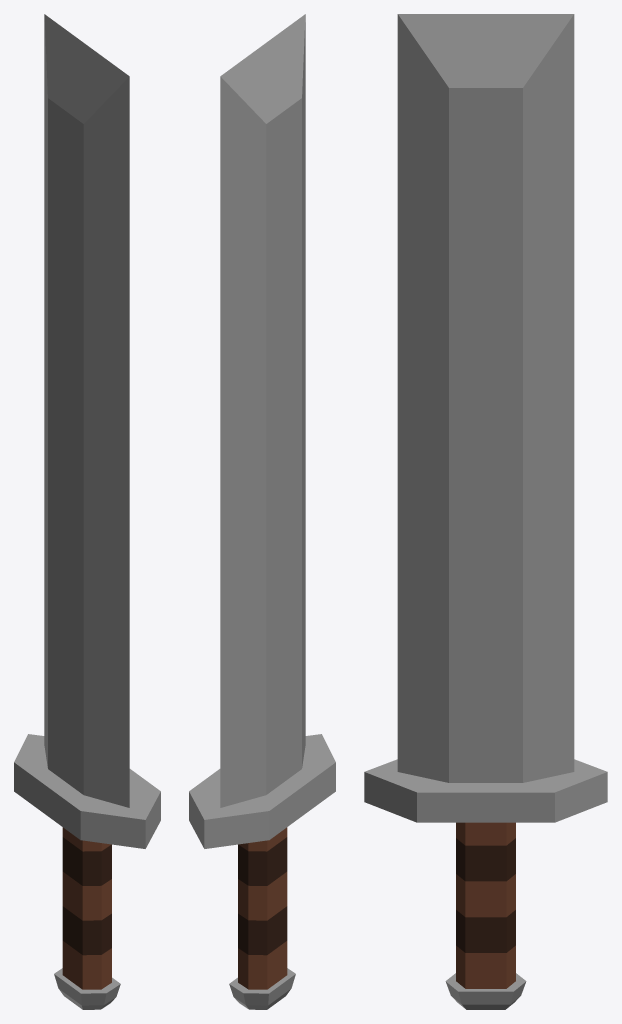
The model's file is scene_ME3F5jAcgY.glb.
3 renders of one model, left to right at view 1: azimuth 30°, elevation 25°; view 2: azimuth 150°, elevation 25°; view 3: azimuth 270°, elevation 25°, orthographic. The views are drawn at different scales.
Visible parts, largest first — view 1: Cube; view 2: Cube; view 3: Cube.
Part boxes in pixels (x1,y1,x2,y2): Cube: (14, 14, 160, 1009); Cube: (189, 14, 335, 1009); Cube: (364, 14, 607, 1009).
Size of the model in its own units: 0.2743 by 3.11 by 0.6939.
